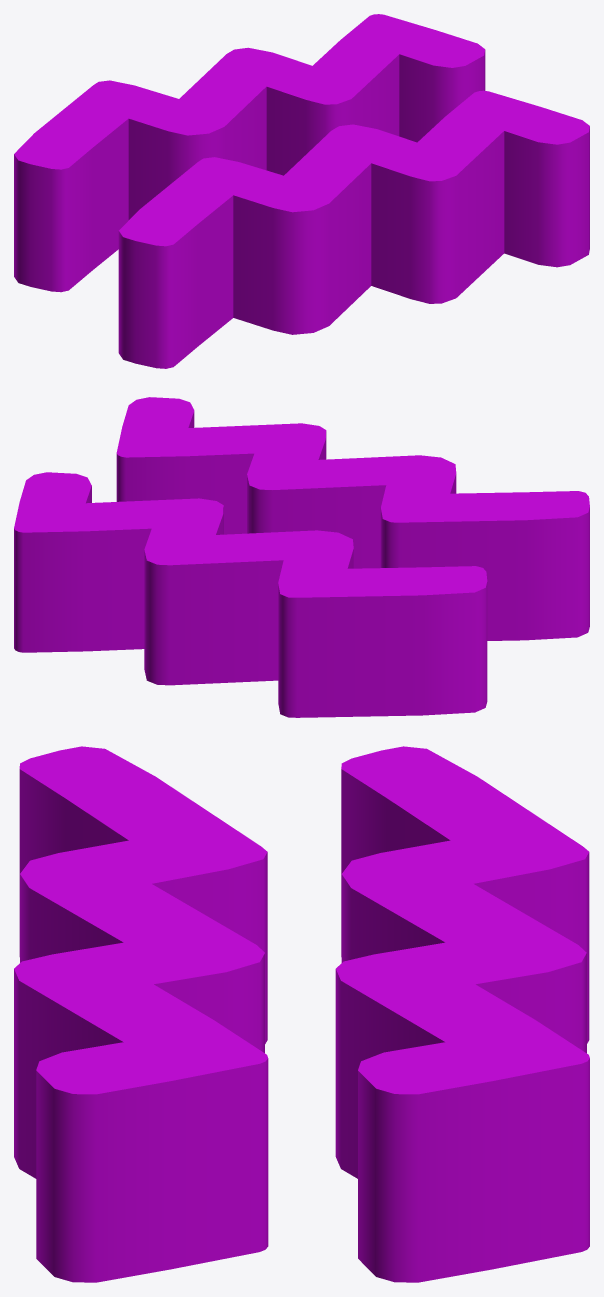
Rendered from Aquarius.fbx.
The picture shows the model from 3 angles, top to bottom: view 1: azimuth 30°, elevation 25°; view 2: azimuth 150°, elevation 25°; view 3: azimuth 270°, elevation 25°; orthographic projection. The views are drawn at different scales.
Visible parts, largest first — view 1: 11.AQUARIUS; view 2: 11.AQUARIUS; view 3: 11.AQUARIUS.
Boxes of the visible parts, x1=… form: 11.AQUARIUS: x1=14, y1=14, x2=589, y2=368; 11.AQUARIUS: x1=14, y1=397, x2=589, y2=717; 11.AQUARIUS: x1=14, y1=746, x2=589, y2=1282.
Bounding box in the file's own units: 141 × 35.7 × 98.98.
